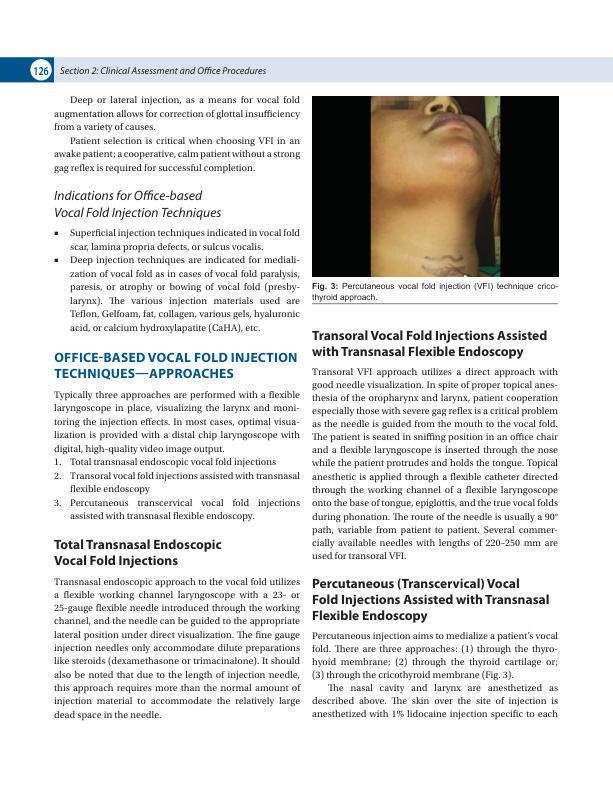caption: (311, 281, 559, 302)
header: (59, 65, 267, 75)
image: (311, 95, 560, 277)
list: (52, 227, 302, 336), (52, 456, 301, 523)
section-heading: (51, 350, 298, 380)
sub-section-heading: (311, 576, 550, 624), (310, 329, 547, 360), (53, 188, 222, 221), (53, 537, 223, 569)
text: (310, 366, 559, 561), (52, 577, 301, 721), (310, 630, 560, 721), (53, 95, 301, 174), (52, 388, 301, 455)
